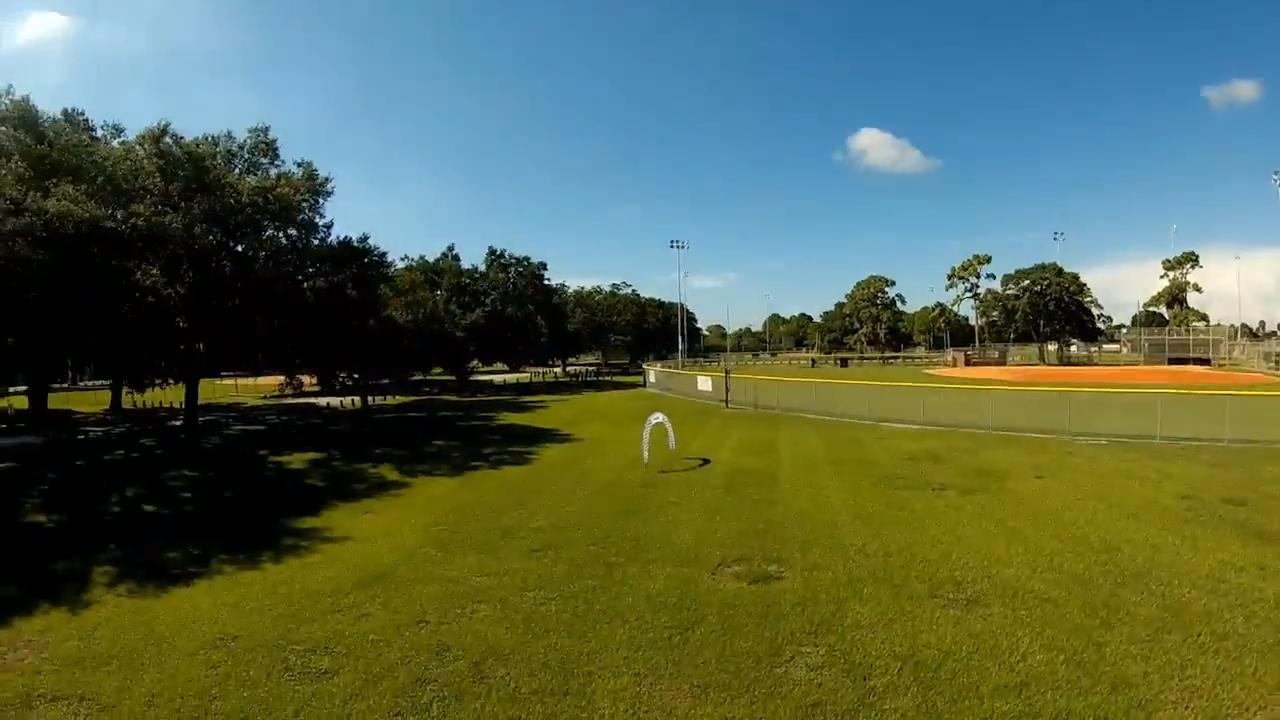gate: (639, 410, 674, 473)
